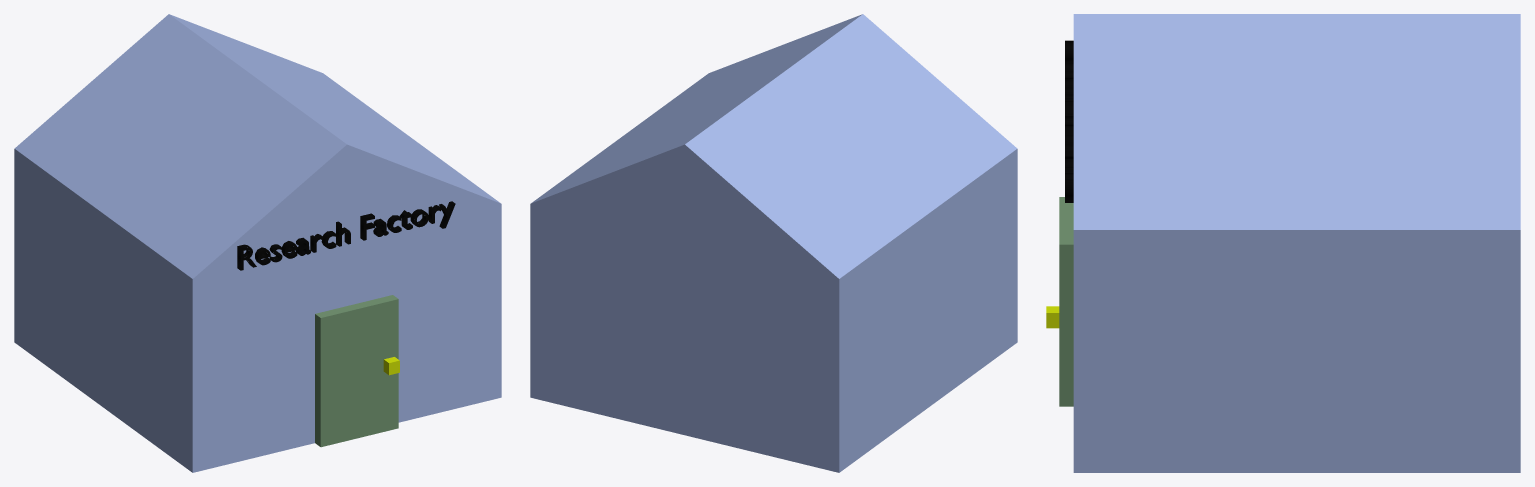
File: Science_Factory_Normal.fbx
3 views of the same model, side by side, from view 1: azimuth 30°, elevation 25°; view 2: azimuth 150°, elevation 25°; view 3: azimuth 270°, elevation 25° (orthographic). The views are drawn at different scales.
Parts seen in each view (by area): view 1: base.001, base, sign_text; view 2: base.001; view 3: base.001, base, sign_text.
Boxes of the visible parts, x1,y1,x2,y2 form: base.001: (14, 14, 501, 472); base: (315, 295, 398, 447); sign_text: (237, 201, 455, 270); base.001: (530, 14, 1017, 472); base.001: (1073, 14, 1520, 472); base: (1059, 197, 1073, 406); sign_text: (1065, 40, 1073, 202).
Size of the model in its own units: 1000 by 900 by 1061.
